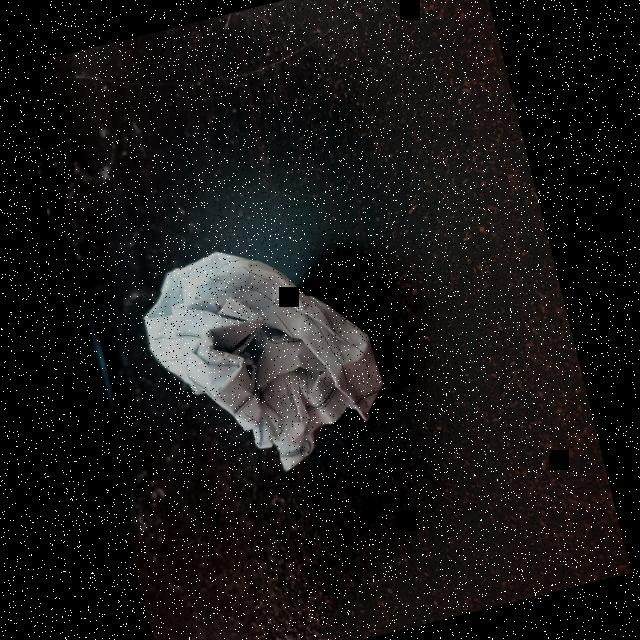scrap_paper: (120, 211, 409, 488)
